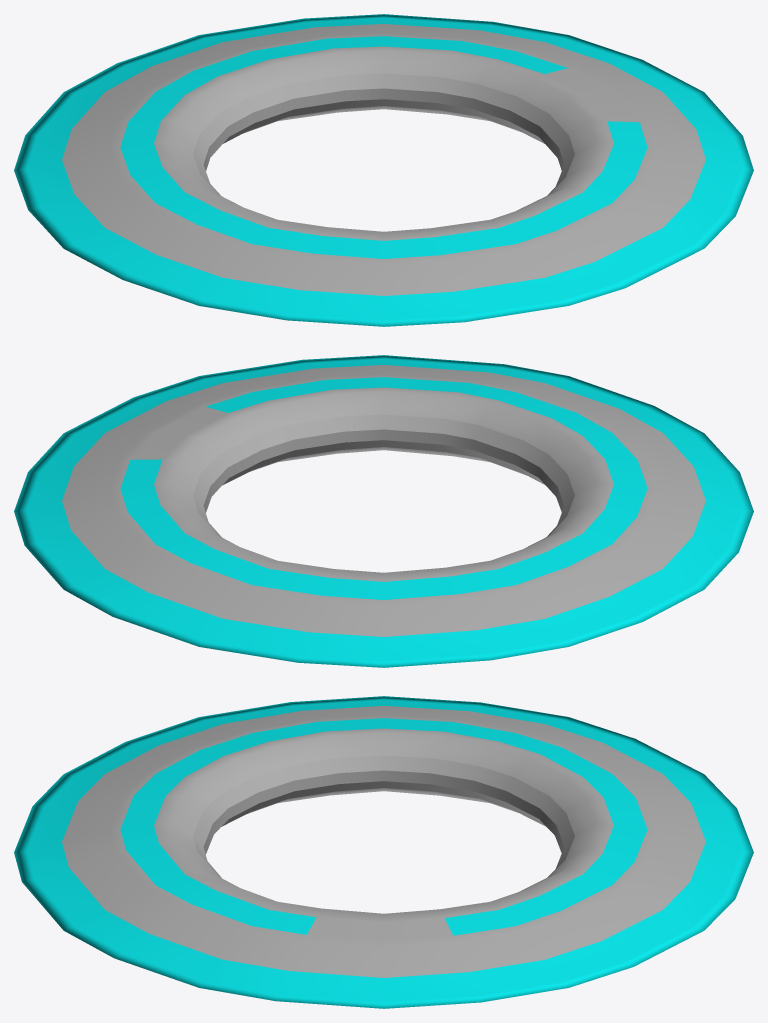
File: tron-disc.fbx
3 views of the same model, one above another, from view 1: azimuth 30°, elevation 25°; view 2: azimuth 150°, elevation 25°; view 3: azimuth 270°, elevation 25° (orthographic).
Parts seen in each view (by area): view 1: discus; view 2: discus; view 3: discus.
Boxes of the visible parts, x1=… form: discus: x1=14, y1=14, x2=753, y2=326; discus: x1=14, y1=355, x2=753, y2=667; discus: x1=14, y1=696, x2=753, y2=1008.
Bounding box in the file's own units: 2.09 × 0.1841 × 2.09.
